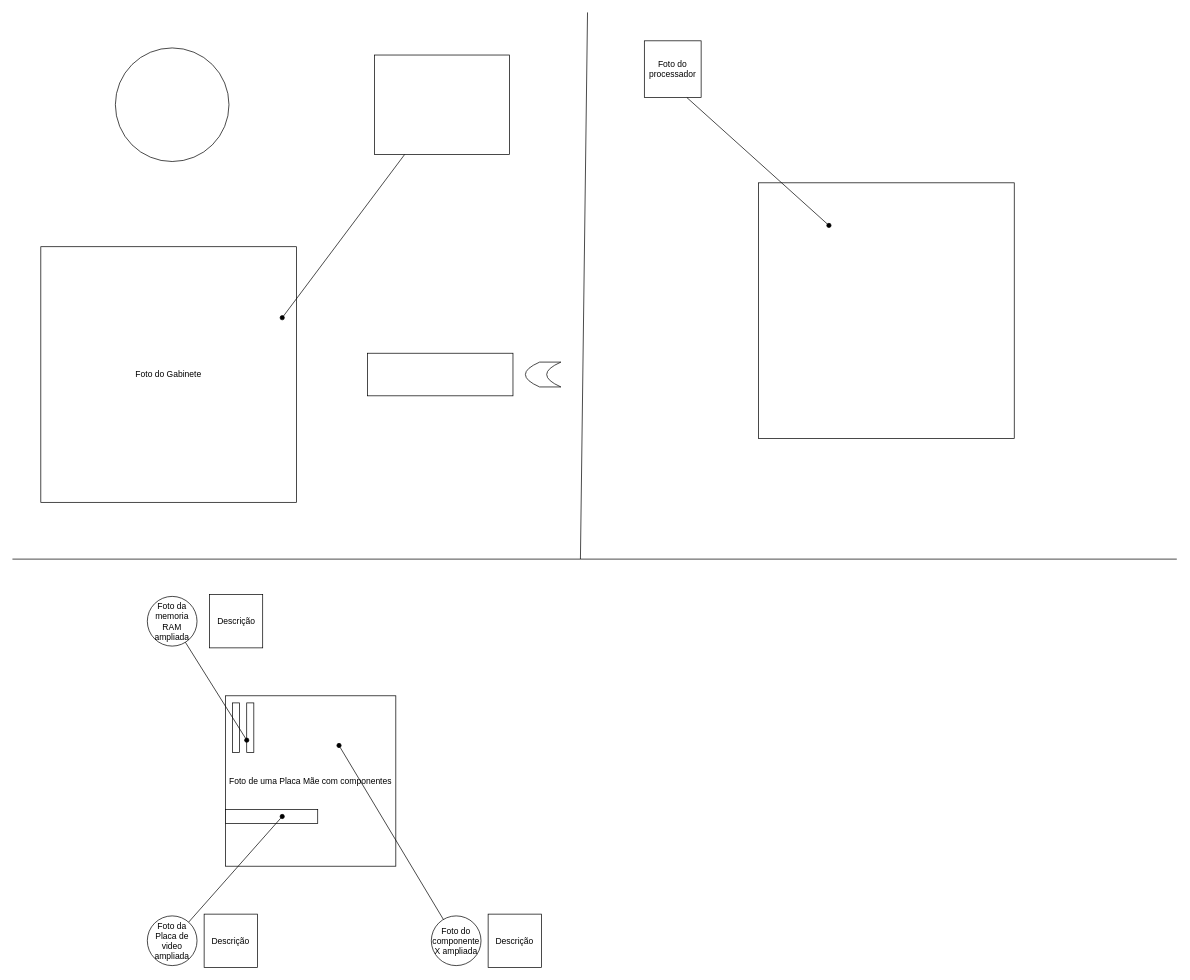
Image size: 1190x980. Some labels were removed from this diagram. The centre of each missing label's shape, as x and y in pixels:
Foto da fonte: pixel 441 104
Foto da placa mãe: pixel 886 310
Foto do Teclado e mouse: pixel 440 374
Foto Fone Ouvido e web cam: pixel 172 104
